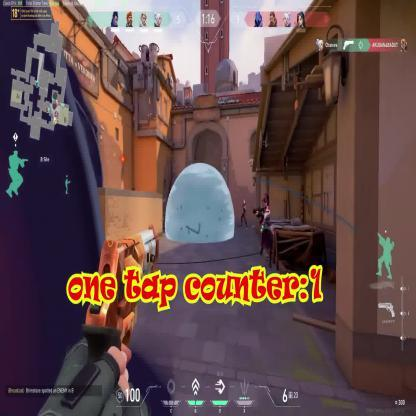enemy: (256, 191, 274, 268), (240, 198, 249, 229)
enemy_head: (262, 195, 268, 207), (244, 200, 245, 204)
